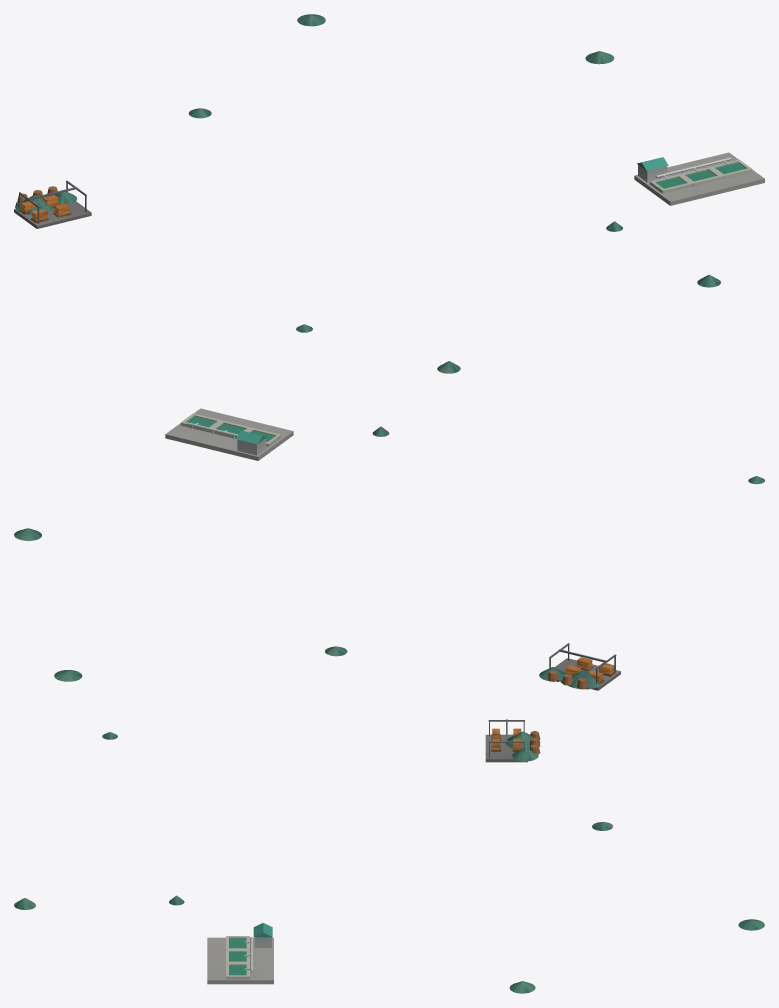
The model's file is Theme_P3.fbx.
3 renders of one model, top to bottom at view 1: azimuth 30°, elevation 25°; view 2: azimuth 150°, elevation 25°; view 3: azimuth 270°, elevation 25°, orthographic. The views are drawn at different scales.
Visible parts, largest first — view 1: Theme.LeachPonds, Theme.CathodeYard, Theme.PumpHouse; view 2: Theme.LeachPonds, Theme.CathodeYard, Theme.PumpHouse; view 3: Theme.LeachPonds, Theme.CathodeYard.
Boxes of the visible parts, bbox=[...] form: Theme.LeachPonds: bbox=[634, 152, 764, 205]; Theme.CathodeYard: bbox=[14, 180, 91, 228]; Theme.PumpHouse: bbox=[637, 157, 668, 182]; Theme.LeachPonds: bbox=[165, 408, 293, 460]; Theme.CathodeYard: bbox=[549, 643, 620, 690]; Theme.PumpHouse: bbox=[236, 430, 266, 455]; Theme.LeachPonds: bbox=[207, 936, 273, 984]; Theme.CathodeYard: bbox=[485, 719, 527, 762].
Size of the model in its own units: 23910 by 1426 by 28209.
